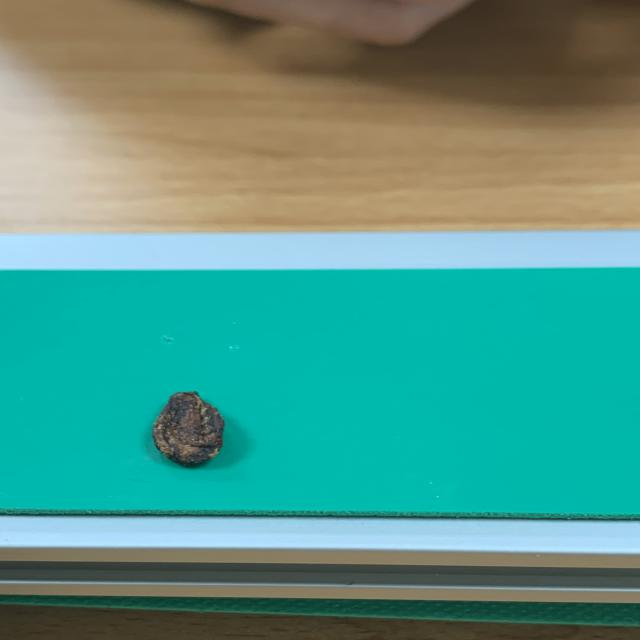Flat_cocoabeans: (41, 347, 349, 505)
